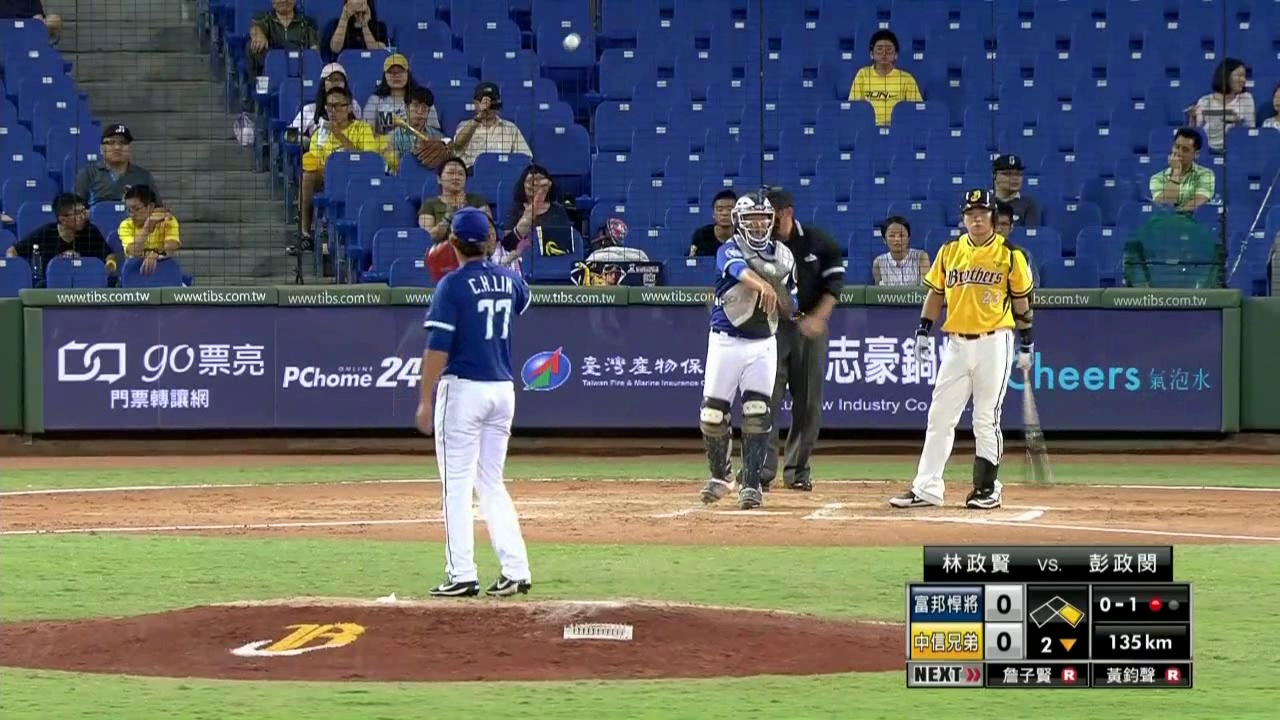ball: (560, 30, 582, 51)
base: (1027, 593, 1087, 628)
bat: (1019, 357, 1053, 490)
out: (1144, 590, 1184, 615)
score1: (986, 587, 1020, 619)
score2: (987, 627, 1020, 656)
session: (1026, 628, 1084, 660)
speed: (1094, 628, 1188, 659)
strikeball: (1092, 591, 1139, 619)
